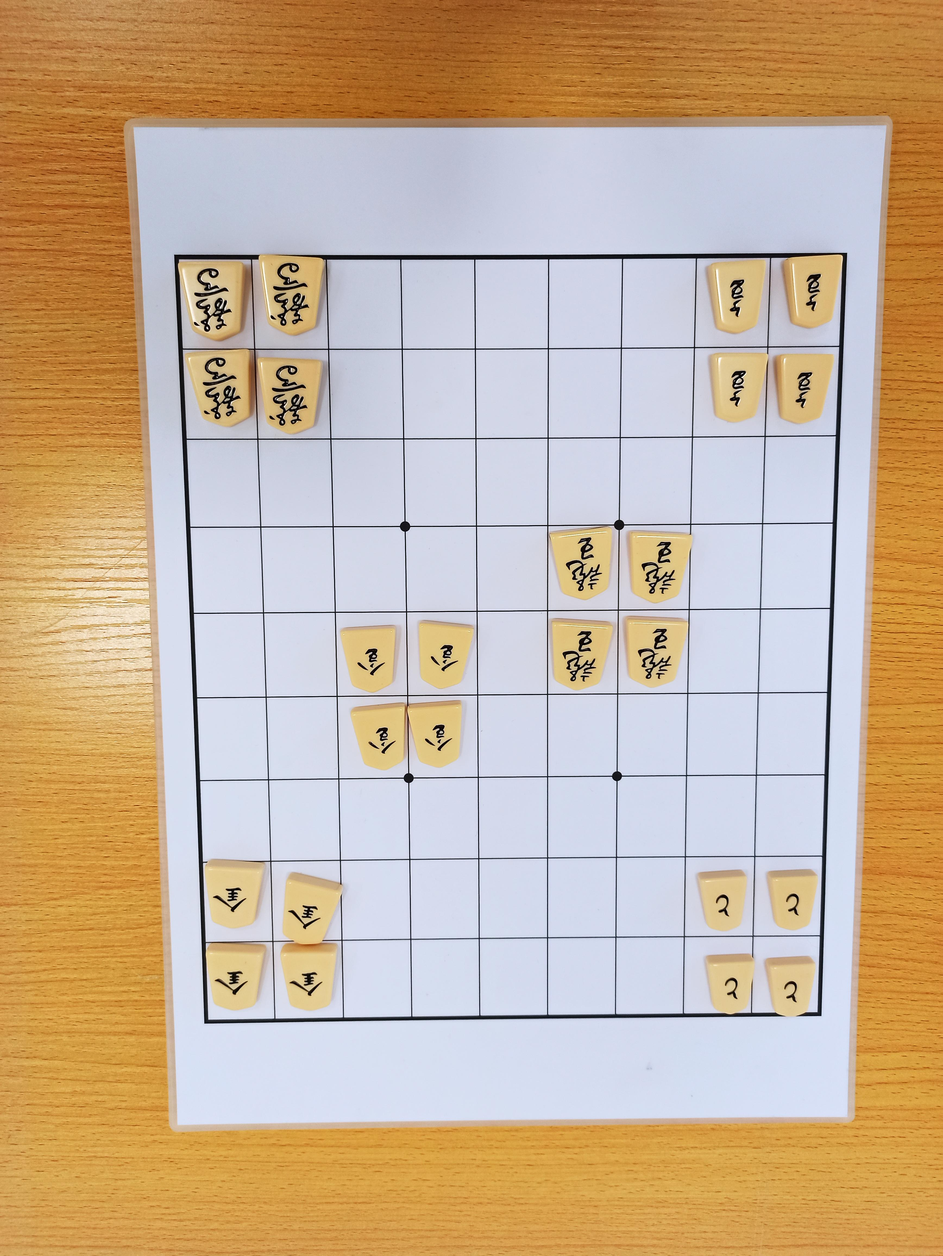board: (176, 255, 847, 1023)
